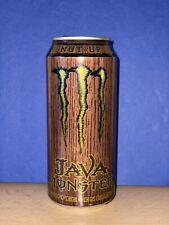metal: (47, 37, 120, 206)
